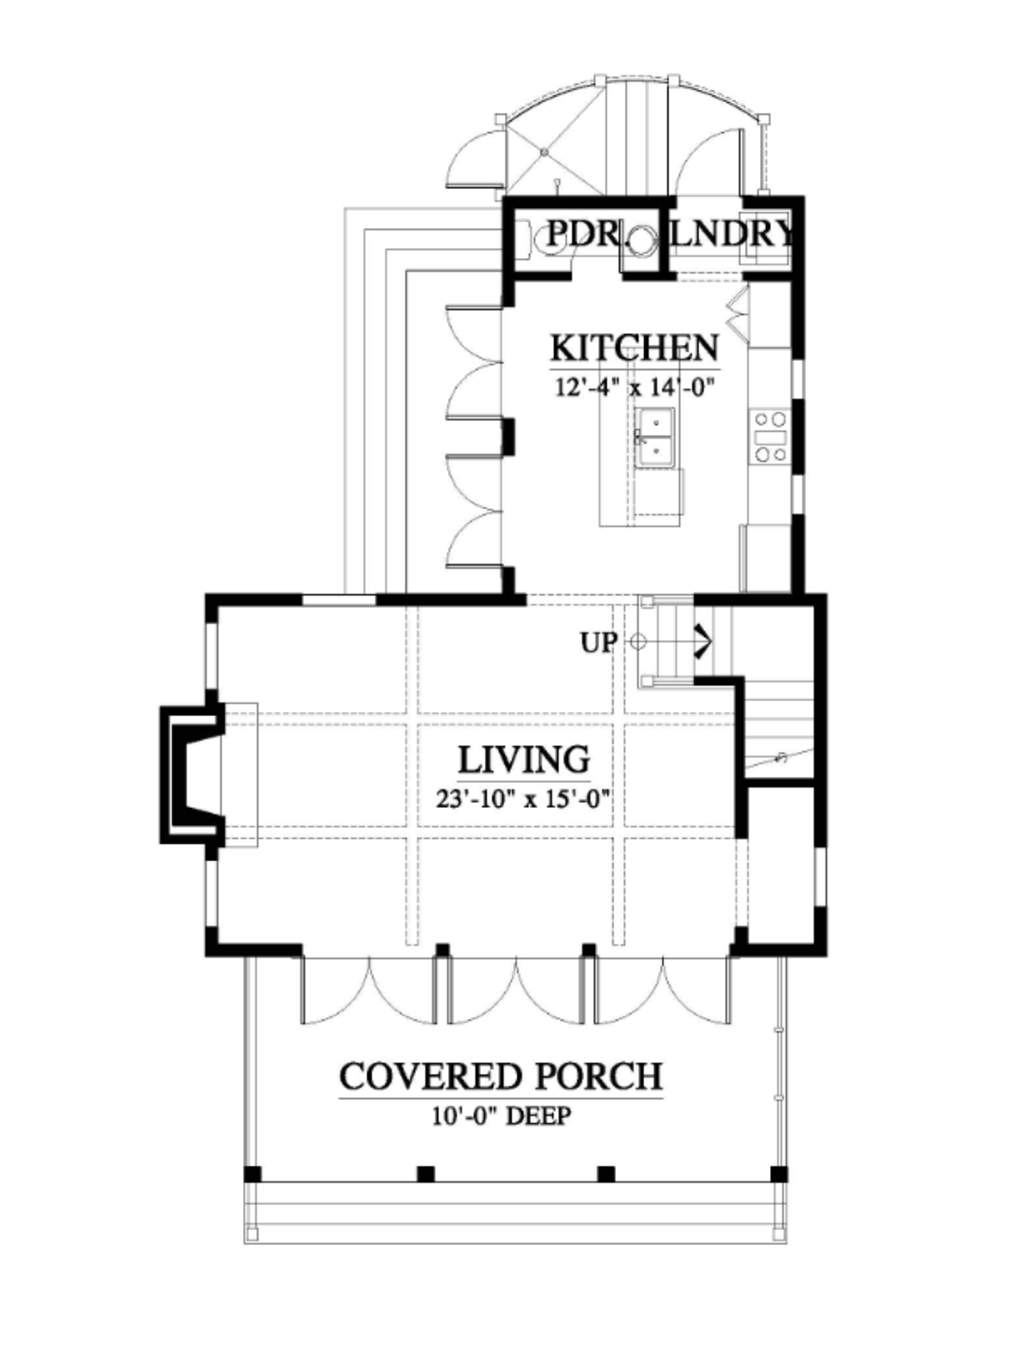door: (586, 949, 735, 1030), (296, 948, 443, 1029), (443, 950, 588, 1032), (435, 298, 520, 423), (443, 446, 508, 575), (670, 125, 745, 206), (446, 129, 513, 196), (716, 283, 758, 345)
stairs: (625, 592, 826, 793)
twin_sink: (630, 403, 683, 478)
windows: (298, 585, 385, 616), (808, 840, 835, 920), (779, 465, 813, 523), (203, 609, 221, 695), (782, 350, 808, 400)
